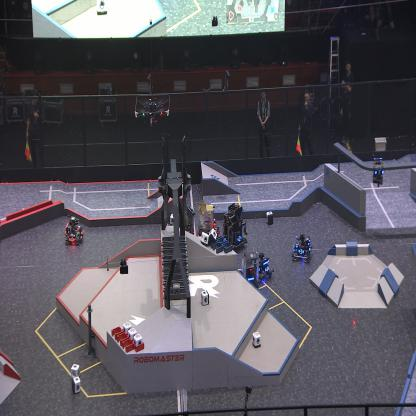car: (222, 200, 247, 253), (197, 199, 221, 246), (173, 201, 196, 248), (239, 251, 260, 294), (292, 233, 313, 263), (255, 252, 274, 284), (64, 214, 84, 244)
